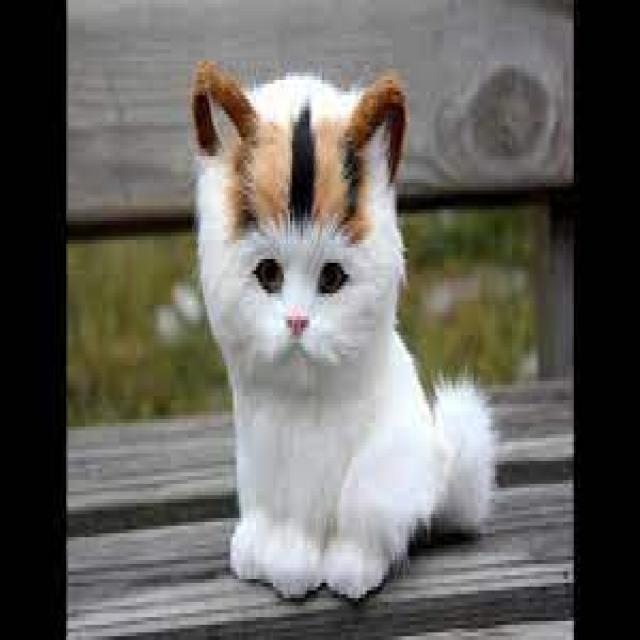Cat: (184, 51, 499, 606)
